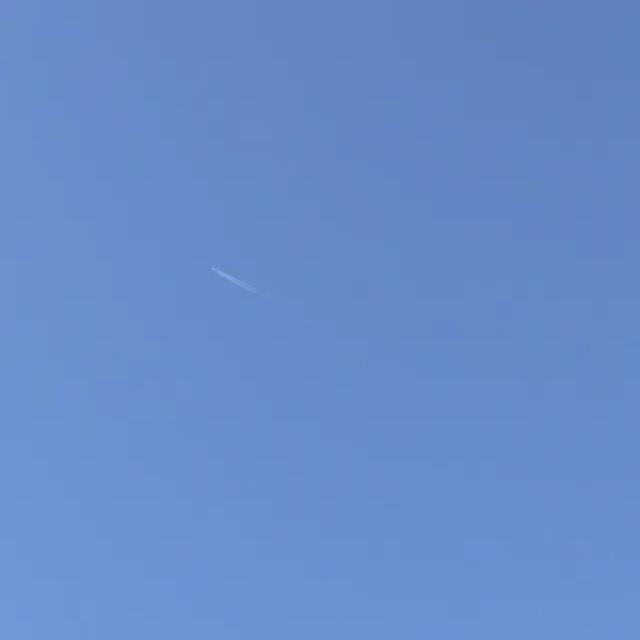AirPlane: (203, 249, 249, 300)
